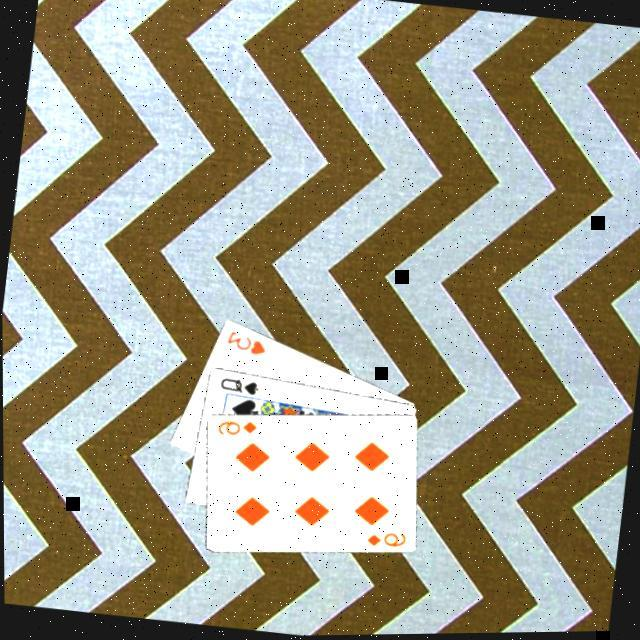3H: (221, 328, 270, 361)
6D: (212, 416, 260, 444), (362, 527, 408, 555)
QS: (216, 374, 262, 400)
